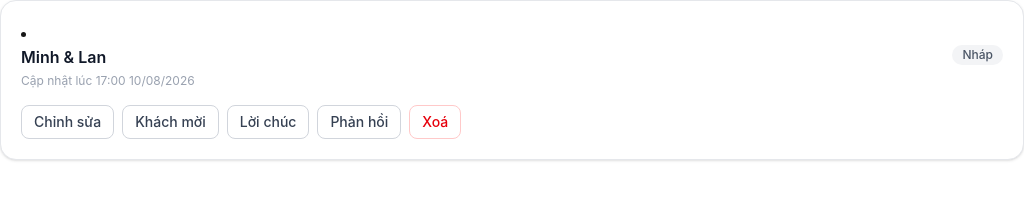
Test: InvitationCard › shows a Vietnamese error and does not refresh when the delete request fails
Click the button "Xoá": (435, 122) [409,105,461,139]
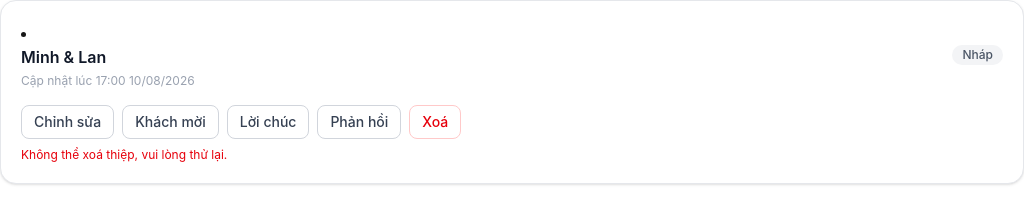
Now the text "Không thể xoá thiệp, vui lòng thử lại." is shown, box [21,147,227,162]
